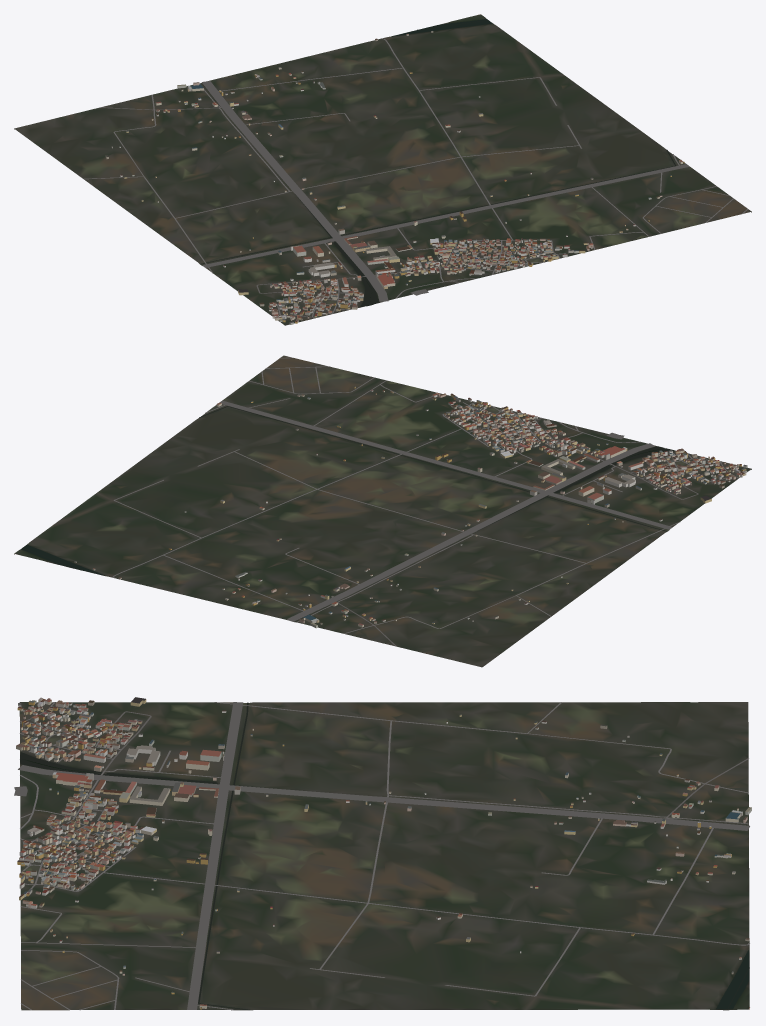
The picture shows the model from 3 angles, top to bottom: view 1: azimuth 30°, elevation 25°; view 2: azimuth 150°, elevation 25°; view 3: azimuth 270°, elevation 25°; orthographic projection. The views are drawn at different scales.
Visible parts, largest first — view 1: ground, buildings, roads, water; view 2: ground, buildings, roads, water; view 3: ground, buildings, roads, water.
Boxes of the visible parts, x1,y1,x2,y2 form: ground: (14,14,751,325); buildings: (105,31,684,324); roads: (83,14,747,318); water: (200,19,675,306); ground: (14,355,751,667); buildings: (74,386,747,628); roads: (14,357,738,646); water: (21,406,675,618); ground: (19,702,749,1010); buildings: (16,697,751,1009); roads: (14,702,749,1010); water: (20,702,749,1010).
Bounding box in the file's own units: 1410 × 18.71 × 1420.
